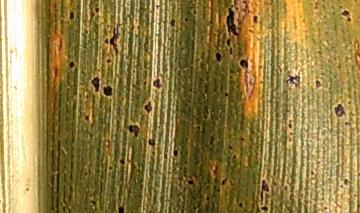tarspot: (224, 6, 238, 37), (109, 21, 121, 56), (259, 177, 270, 205), (127, 123, 141, 139), (332, 103, 346, 118), (90, 75, 101, 94), (338, 8, 352, 21), (102, 85, 114, 98), (288, 75, 301, 87), (143, 100, 154, 114), (152, 77, 163, 90), (239, 58, 249, 70), (215, 51, 223, 64), (147, 138, 156, 148), (207, 134, 215, 145), (211, 165, 219, 176), (67, 60, 76, 69), (116, 205, 126, 213), (186, 178, 196, 186), (314, 79, 322, 89), (68, 10, 75, 21), (169, 18, 176, 29), (252, 14, 259, 25), (343, 177, 350, 188), (203, 103, 210, 114), (118, 157, 126, 166), (82, 114, 91, 122), (105, 56, 114, 64), (260, 205, 269, 213), (212, 177, 220, 186), (241, 1, 249, 10), (247, 27, 255, 36), (103, 37, 110, 47), (172, 148, 179, 158), (225, 37, 231, 48), (287, 118, 293, 129), (88, 199, 97, 206), (221, 177, 228, 186), (343, 120, 351, 127), (316, 49, 323, 57), (94, 5, 100, 14), (228, 46, 233, 56), (313, 1, 318, 11), (239, 135, 246, 142), (227, 144, 234, 151), (237, 201, 244, 208), (155, 4, 162, 11), (150, 150, 157, 157), (314, 160, 321, 167), (129, 24, 136, 31), (163, 153, 169, 161), (176, 68, 181, 77), (283, 184, 288, 193), (284, 77, 289, 86), (210, 201, 216, 208), (108, 165, 114, 172), (309, 169, 315, 176), (196, 124, 202, 131), (83, 93, 89, 100), (191, 8, 197, 15), (201, 114, 208, 120), (135, 24, 141, 31), (198, 76, 204, 83), (346, 16, 351, 24), (288, 136, 293, 144), (142, 80, 148, 86), (223, 91, 229, 97), (183, 16, 189, 22), (215, 187, 221, 193), (275, 48, 281, 54), (322, 205, 328, 211), (83, 29, 89, 35), (258, 79, 264, 85), (184, 137, 189, 144), (205, 195, 210, 201), (131, 68, 136, 74), (205, 97, 210, 103), (301, 17, 306, 23), (352, 192, 357, 198), (204, 185, 209, 191), (83, 170, 87, 177), (356, 202, 360, 209), (206, 178, 211, 183), (278, 67, 282, 73), (232, 154, 236, 159), (357, 171, 360, 177)
